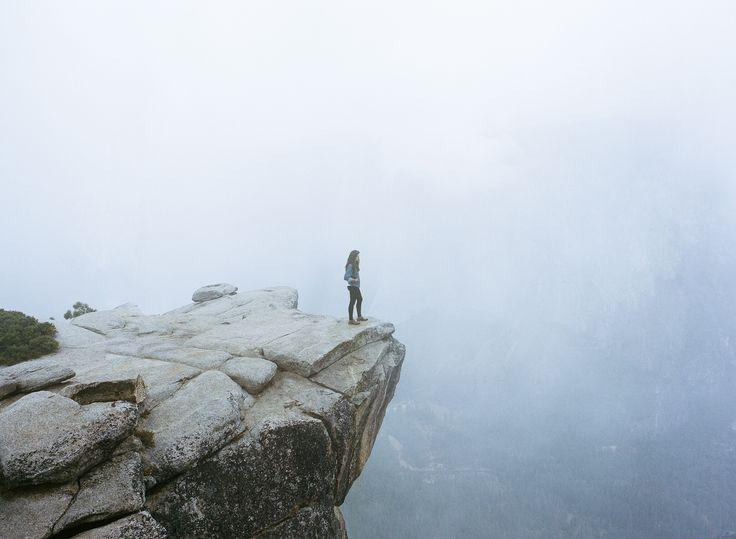person: (343, 248, 369, 324)
